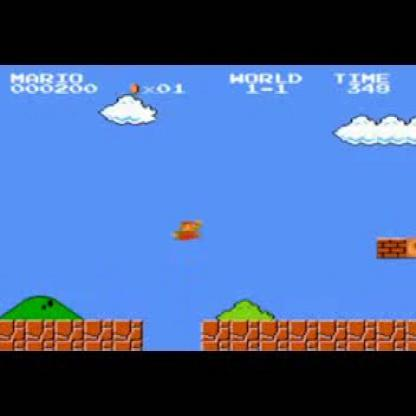Hoyo: (136, 317, 204, 350)
